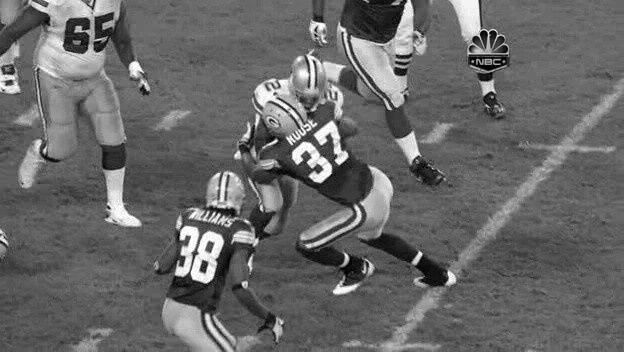person: (287, 57, 326, 107), (286, 57, 325, 107), (288, 57, 327, 107), (287, 56, 326, 106), (287, 58, 326, 108)
target_negative: (329, 105, 407, 233), (359, 286, 423, 330), (586, 107, 594, 315), (602, 71, 607, 351), (397, 150, 409, 258), (460, 145, 466, 194)
